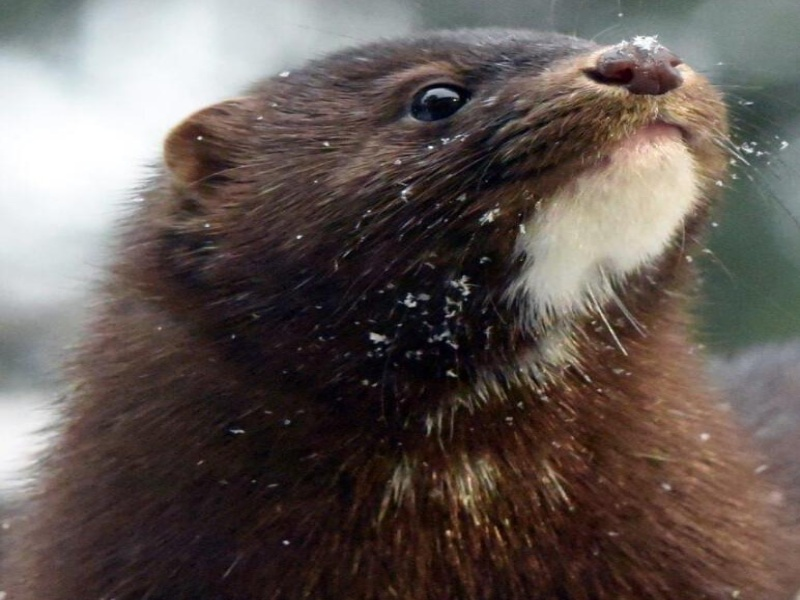minkish: (8, 20, 795, 597)
